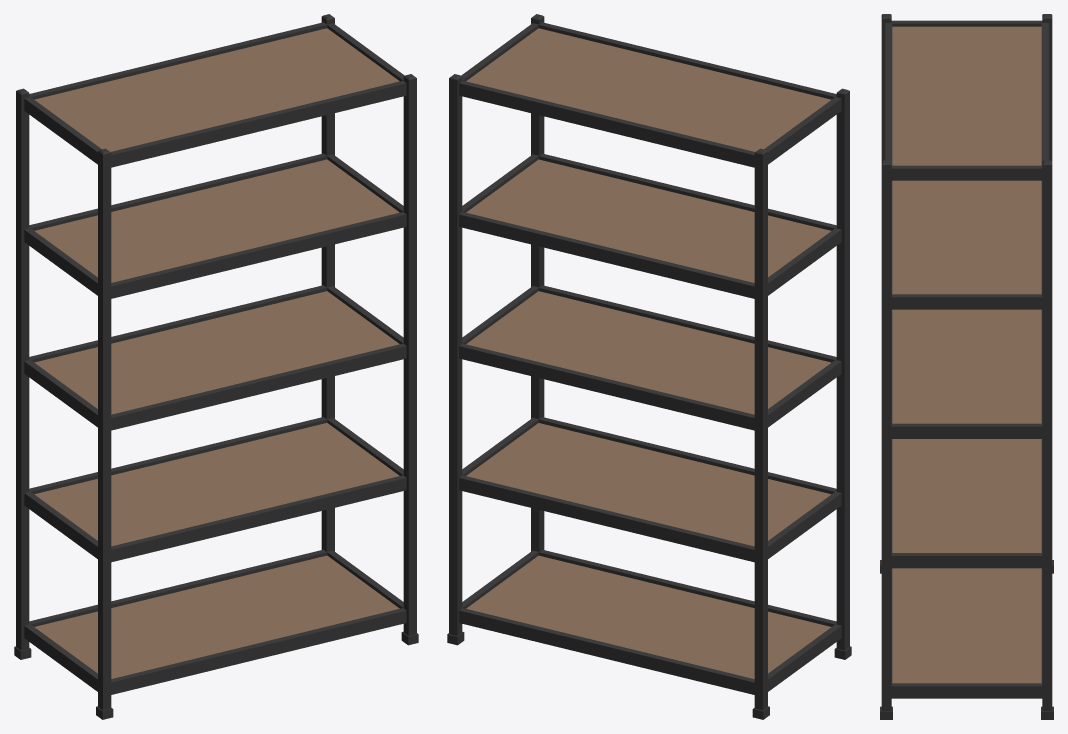
The model's file is props_63.glb.
3 views of the same model, side by side, from view 1: azimuth 30°, elevation 25°; view 2: azimuth 150°, elevation 25°; view 3: azimuth 270°, elevation 25° (orthographic).
Visible parts, largest first — view 1: props_63; view 2: props_63; view 3: props_63.
Part boxes in pixels (x1=…): props_63: x1=14, y1=14, x2=418, y2=719; props_63: x1=447, y1=14, x2=851, y2=719; props_63: x1=880, y1=14, x2=1053, y2=719.
Size of the model in its own units: 1.97 by 3.37 by 0.9536.
Materials: 1 (1 with a texture image).
